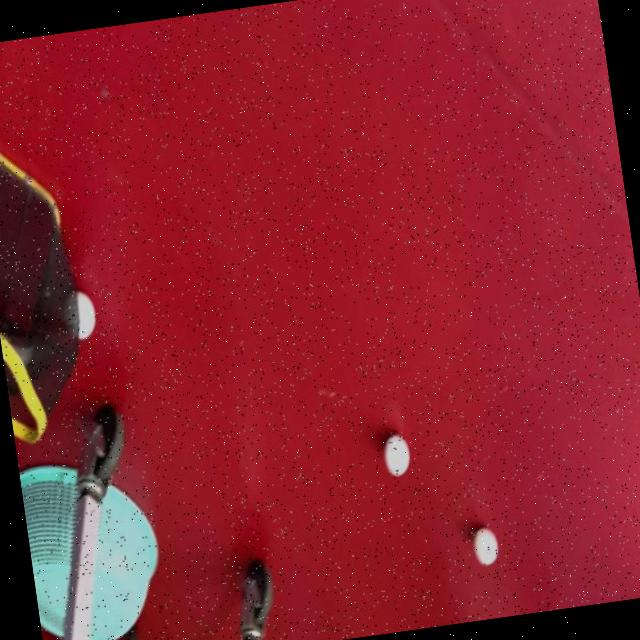ping-pong-ball: (61, 286, 98, 346), (380, 429, 412, 478), (470, 524, 500, 568)
